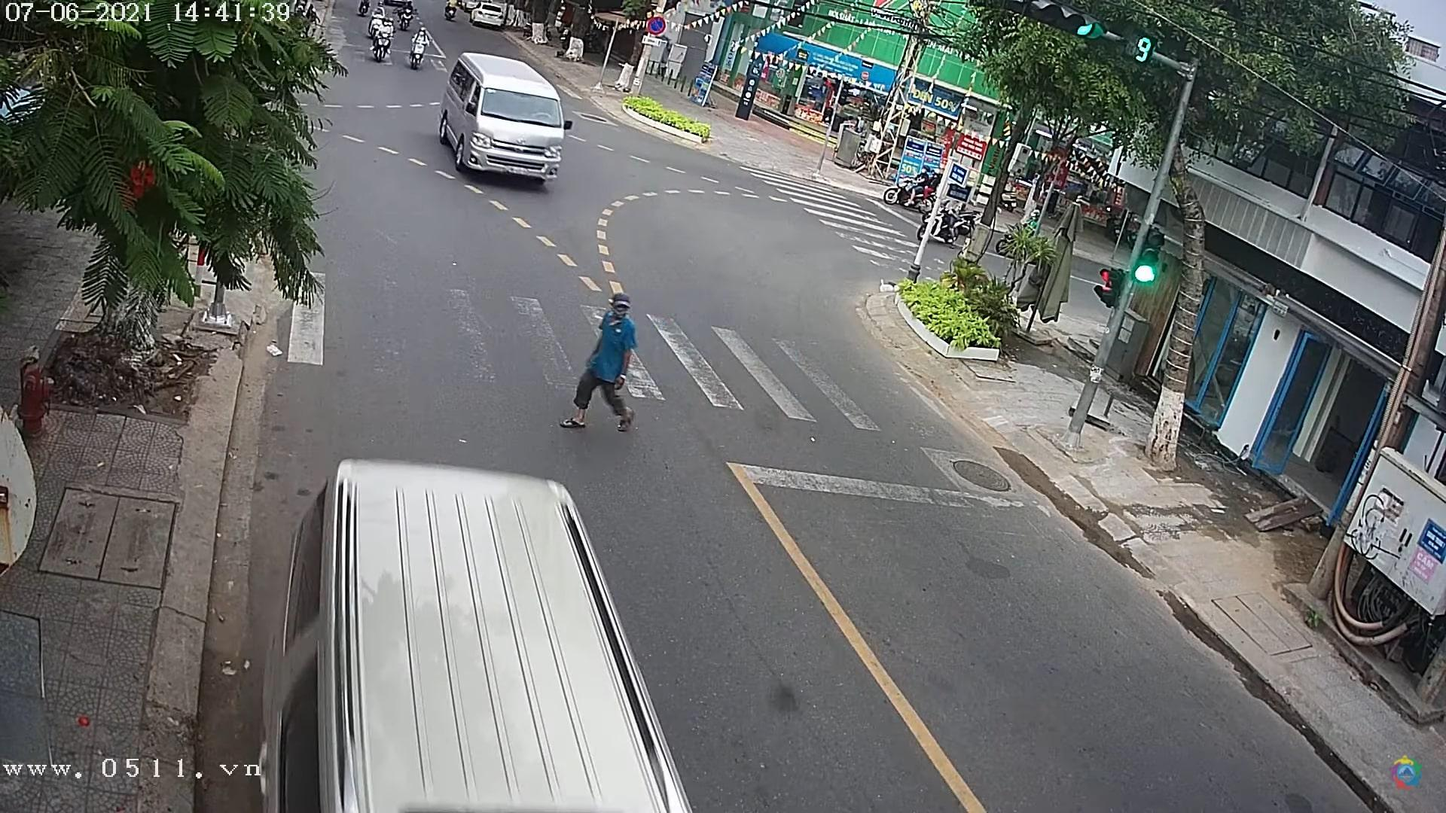car: (439, 51, 570, 181), (474, 5, 512, 30)
motorbike: (371, 26, 394, 67), (412, 33, 431, 69)
